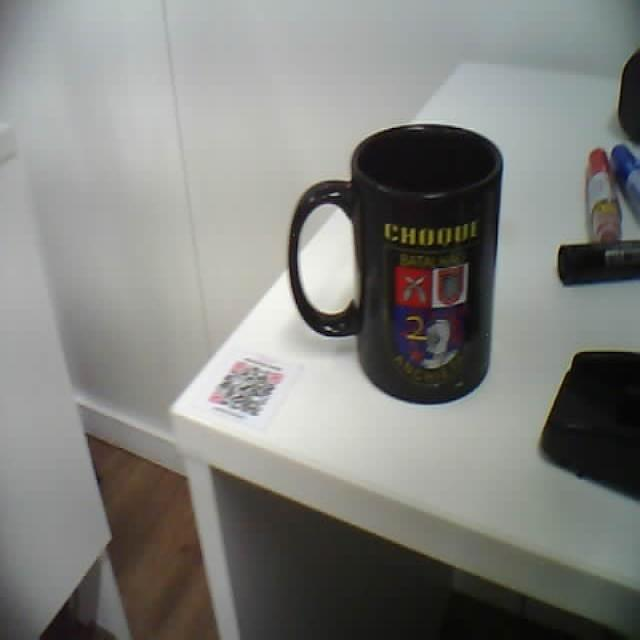caneca: (289, 124, 502, 403)
